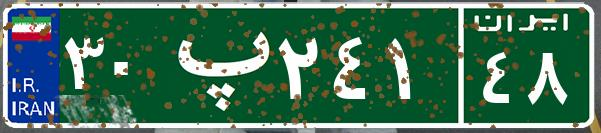0: (110, 28, 158, 105)
1: (385, 28, 445, 110)
2: (273, 28, 330, 110)
3: (57, 26, 110, 107)
4: (330, 28, 385, 110), (475, 38, 525, 113)
8: (525, 38, 570, 115)
پ: (158, 15, 273, 115)
